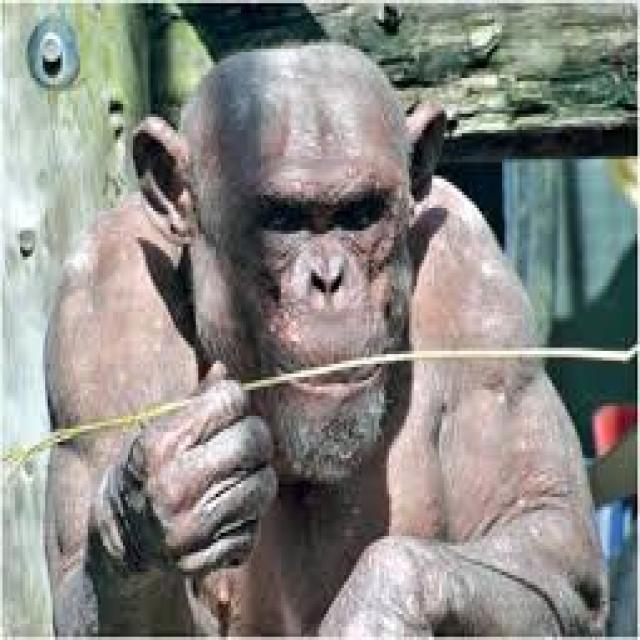Chimpanzee: (45, 52, 602, 640)
